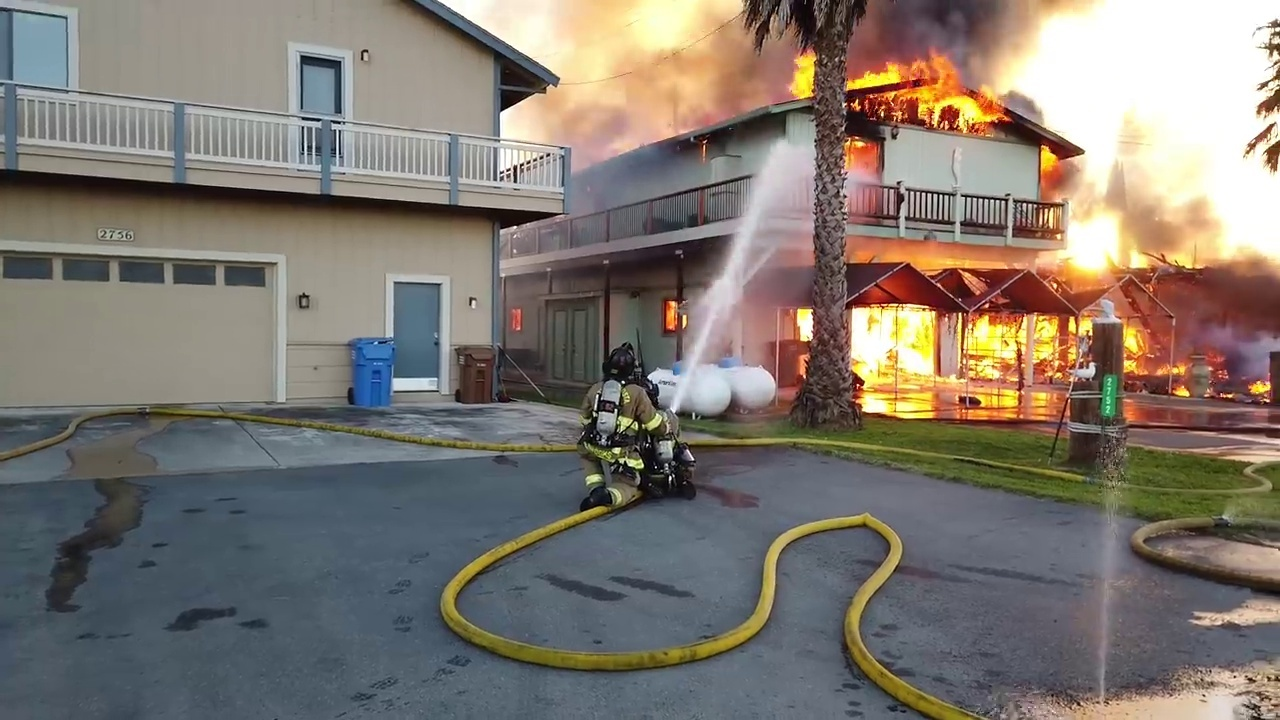fire: (848, 305, 1148, 387), (848, 50, 1004, 132), (787, 44, 818, 97), (664, 298, 685, 331), (507, 305, 525, 334), (1244, 375, 1271, 392), (1167, 381, 1194, 395), (1165, 359, 1190, 373)
smoke: (1052, 110, 1278, 349), (498, 2, 758, 156), (838, 1, 1101, 82), (566, 165, 710, 249)
